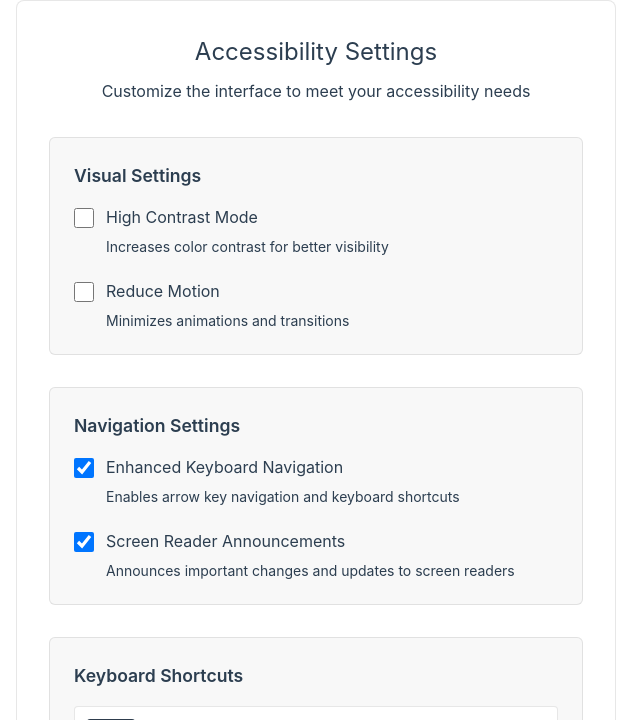
Test: AccessibilitySettings › shows confirmation message with proper ARIA attributes
# Trigger a setting change to show confirmation
Click the checkbox labelled "High Contrast Mode" at (84, 218), box [74,208,94,228]
(page scrolled)
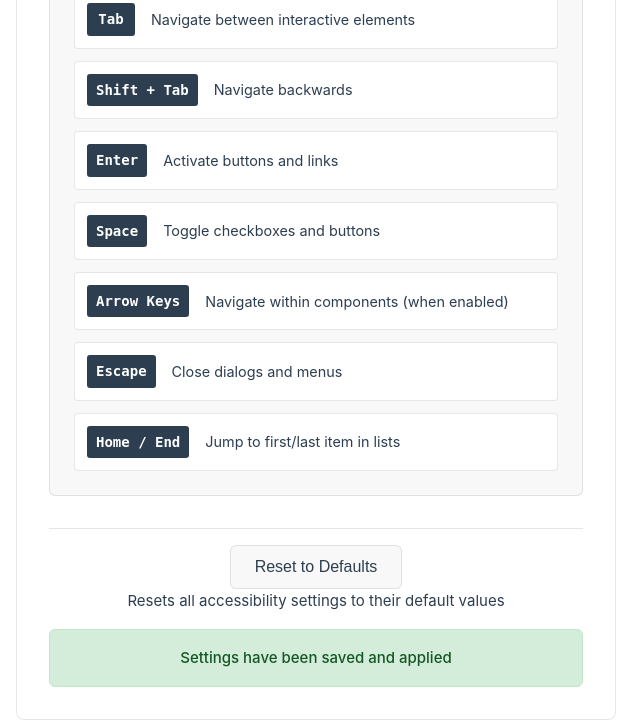
Result: the message "Settings have been saved and applied" is shown at [49,629,583,687]
